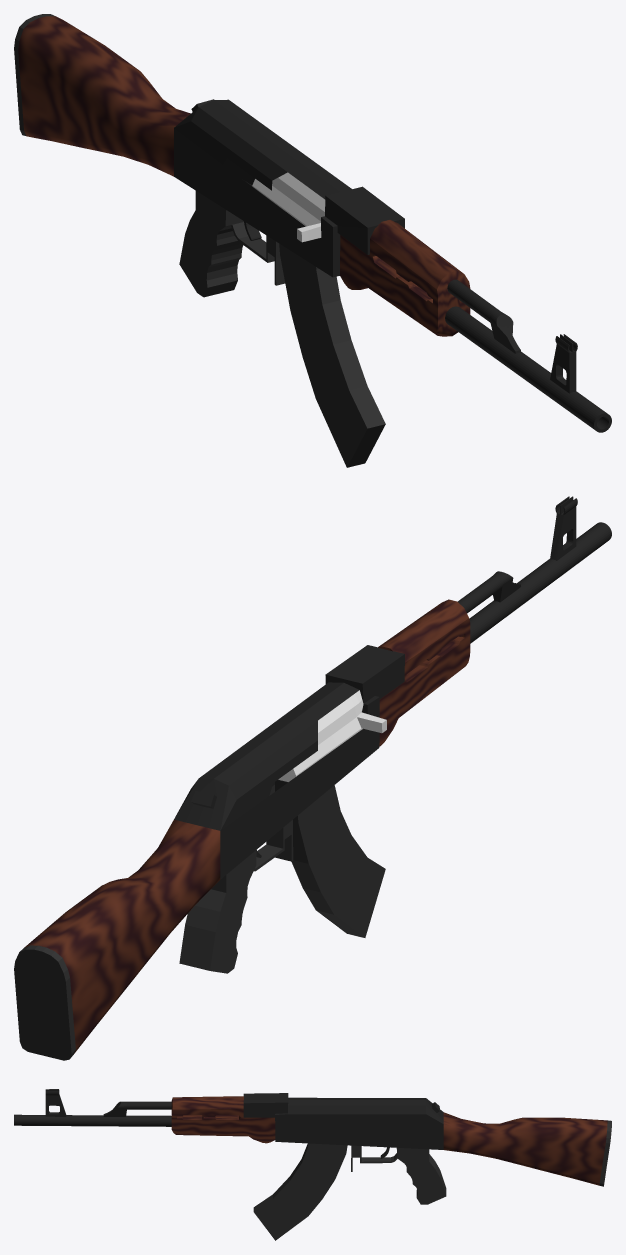
3 renders of one model, top to bottom at view 1: azimuth 30°, elevation 25°; view 2: azimuth 150°, elevation 25°; view 3: azimuth 270°, elevation 25°, orthographic. The views are drawn at different scales.
Parts seen in each view (by area): view 1: receiver, stock, mag, furniture, grip, barrel, bolt assembly, gas tube, front sight, stock_end; view 2: receiver, stock, mag, furniture, grip, stock_end, barrel, bolt assembly, front sight, gas tube; view 3: receiver, stock, mag, furniture, grip, barrel, gas tube, front sight, stock_end.
Part boxes in pixels (x1,y1,x2,y2): receiver: (174,99,404,277); stock: (18,16,190,176); mag: (279,244,385,467); furniture: (340,220,470,336); grip: (179,191,285,297); barrel: (445,306,611,432); bolt assembly: (252,172,325,242); gas tube: (447,279,520,353); front sight: (550,334,577,393); stock_end: (14,14,58,135); receiver: (174,645,404,879); stock: (24,819,220,1053); mag: (291,785,385,937); furniture: (378,599,470,746); grip: (179,820,293,973); stock_end: (14,945,75,1060); barrel: (469,522,611,643); bolt assembly: (278,690,386,781); front sight: (550,496,577,560); gas tube: (457,571,520,613); receiver: (243,1093,443,1149); stock: (443,1112,607,1185); mag: (253,1143,347,1240); furniture: (171,1096,275,1143); grip: (351,1145,446,1204); barrel: (14,1114,171,1126); gas tube: (103,1101,171,1116); front sight: (45,1089,66,1116); stock_end: (599,1120,611,1186).
Bounding box in the file's own units: 0.3501 × 1.37 × 5.
5 materials, 2 textured.
